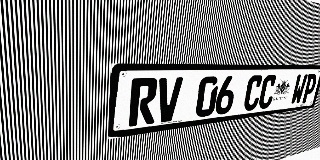0: (194, 76, 220, 118)
6: (214, 76, 238, 115)
C: (242, 75, 264, 111), (257, 75, 278, 109)
P: (301, 74, 318, 104)
R: (128, 78, 158, 127)
V: (155, 77, 183, 123)
W: (290, 74, 308, 105)
